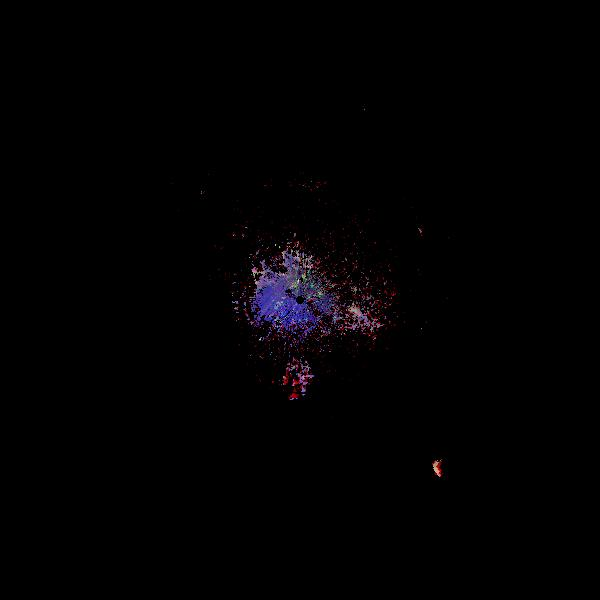roost: (430, 442, 478, 490), (280, 355, 322, 397)
